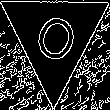O_SW: (27, 4, 82, 71)
